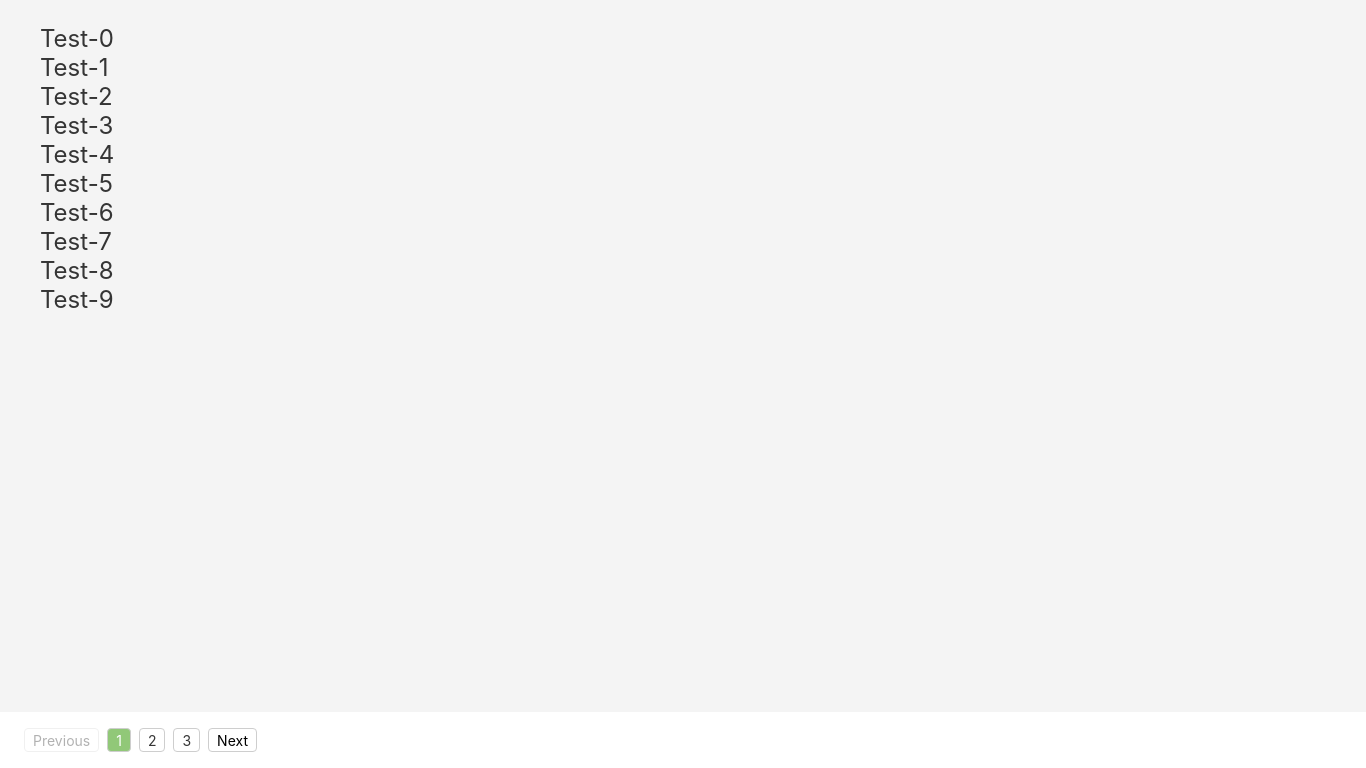
Scenario: Test PaginatedList component › it renders list and pagination when the data is not empty
Expected: the element with test id "pagination" is shown, [0, 712, 1365, 767]
Expected: the list item with class "next" is shown, [208, 728, 257, 752]
Step 1. Click the button "2" → click(152, 740), box [148, 732, 156, 749]
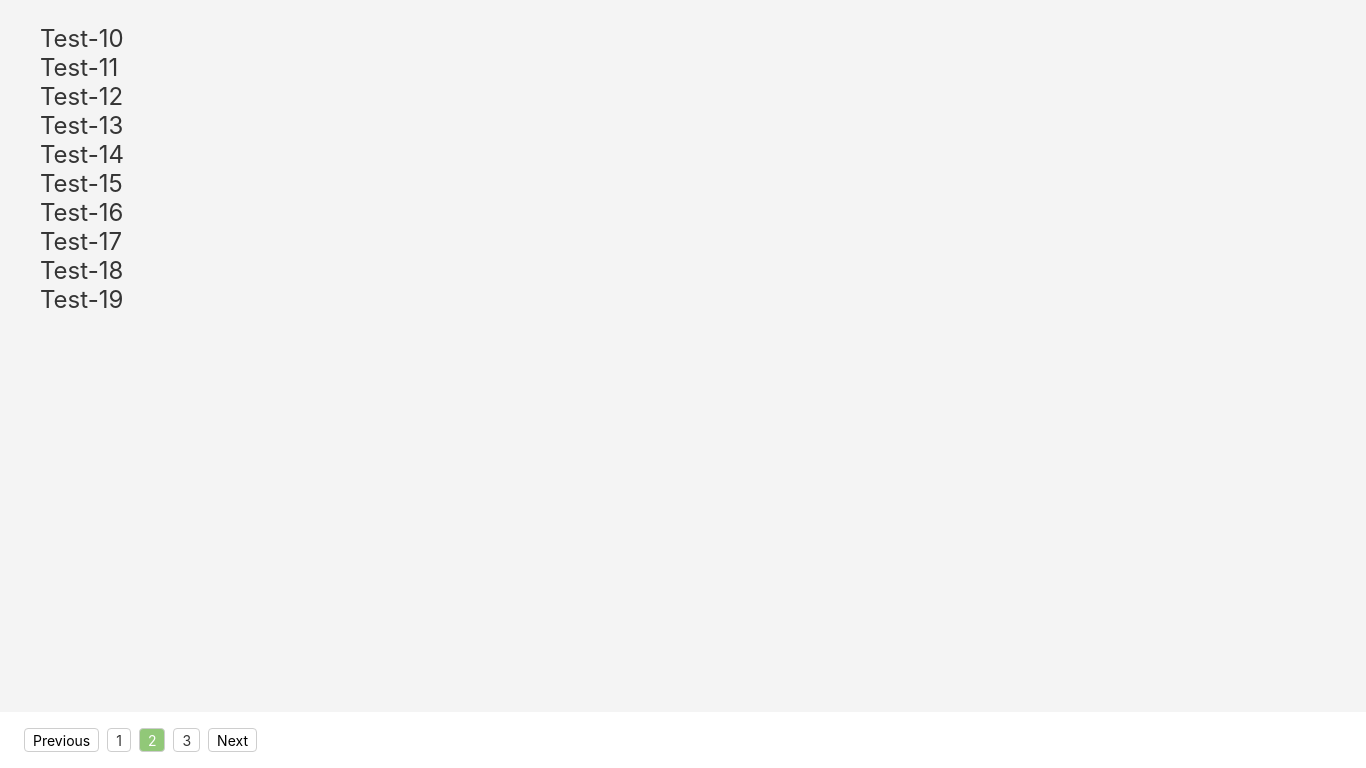
Expected: the list item "Previous" does not have class "disabled", [24, 728, 99, 752]
Step 2. Click the button "3" → click(187, 740), box [182, 732, 191, 749]
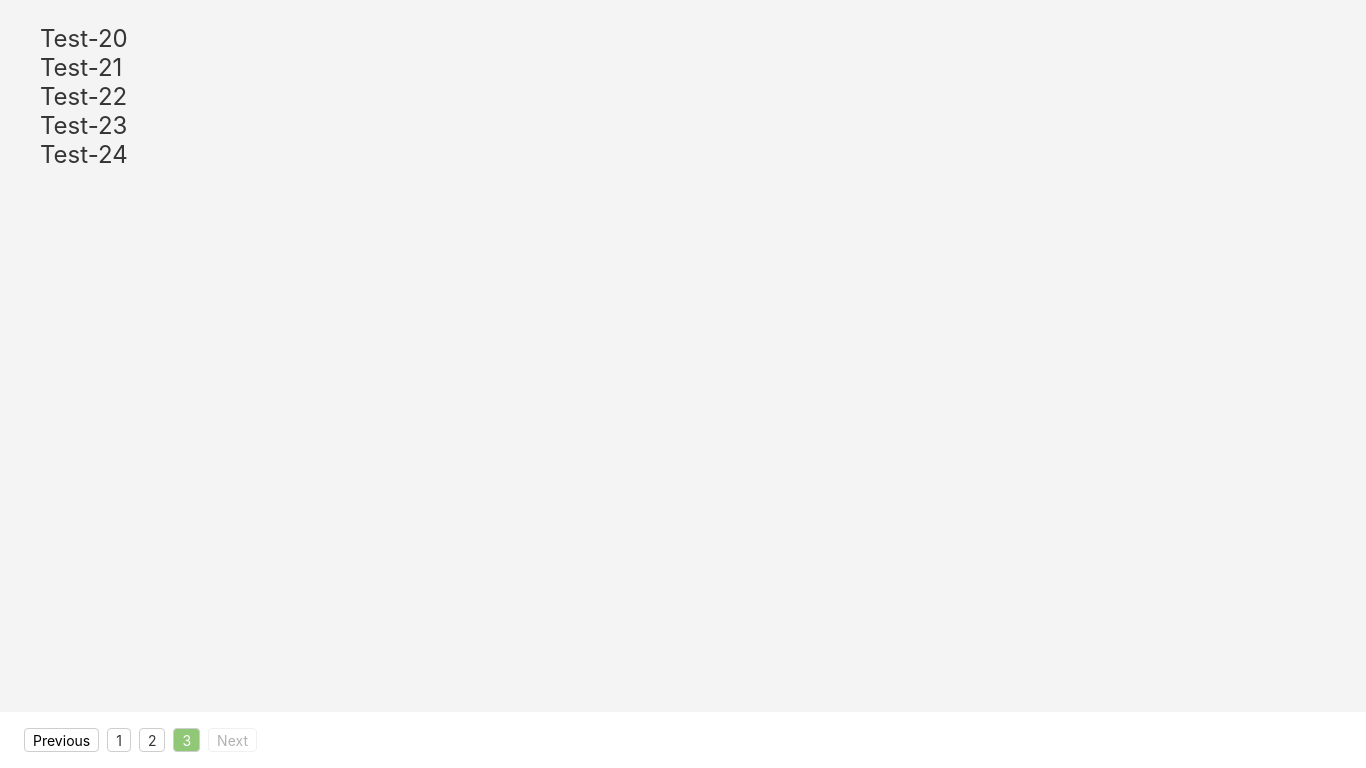
Expected: the number of elements with class "git__tree-item" is 5, [40, 24, 128, 53]; [40, 53, 122, 82]; [40, 82, 127, 111]; [40, 111, 127, 140]; [40, 140, 128, 169]
